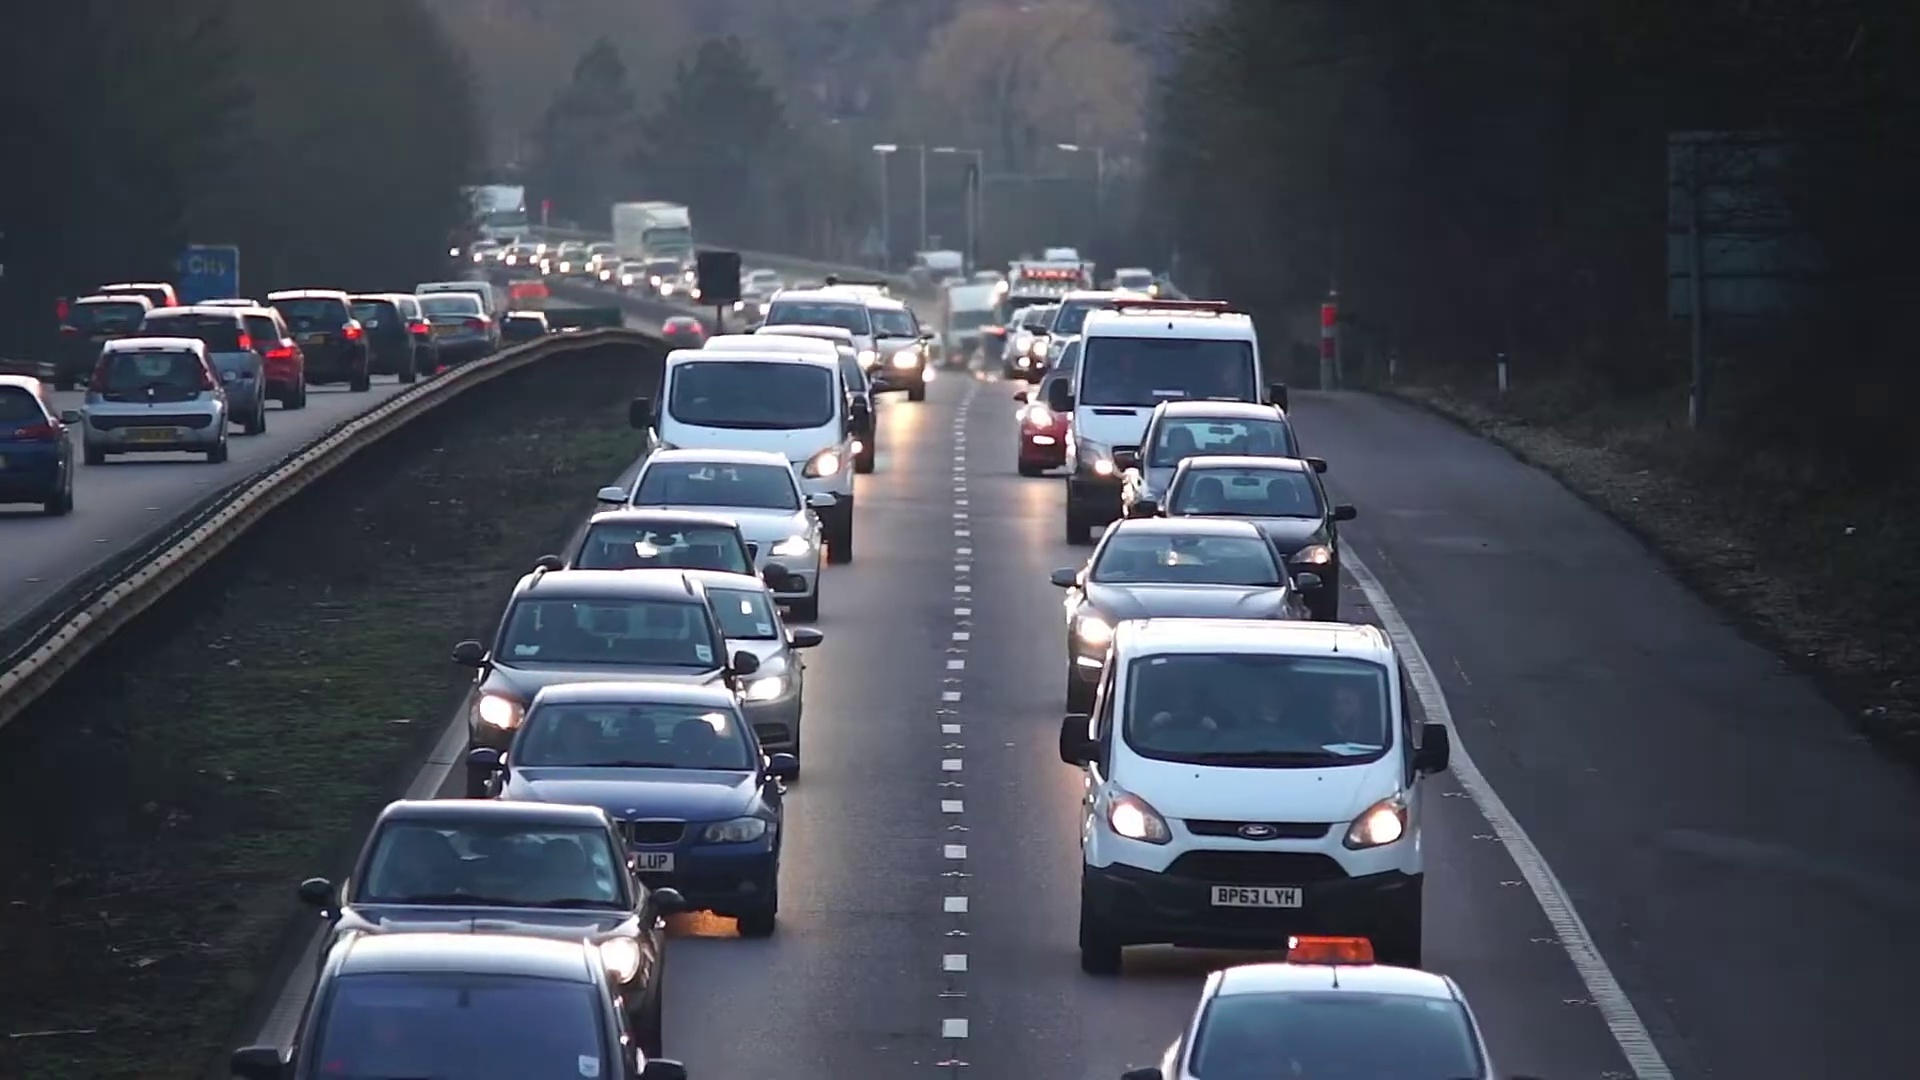license_plate: (1207, 882, 1303, 910)
